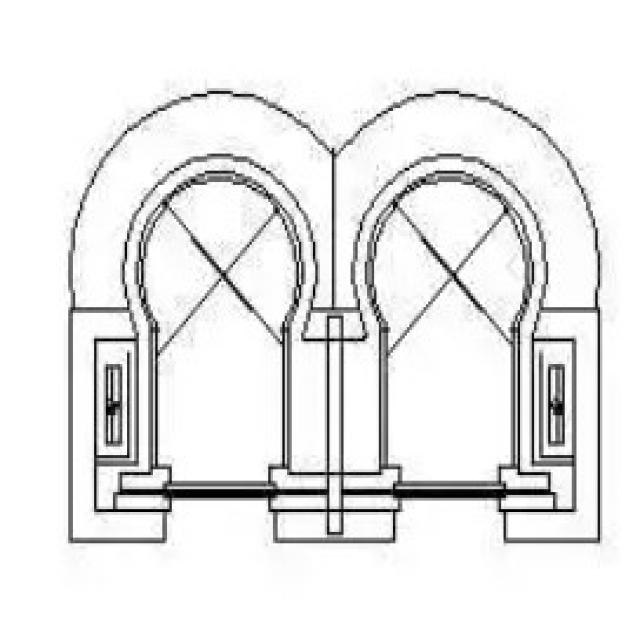lift: (66, 88, 595, 541)
